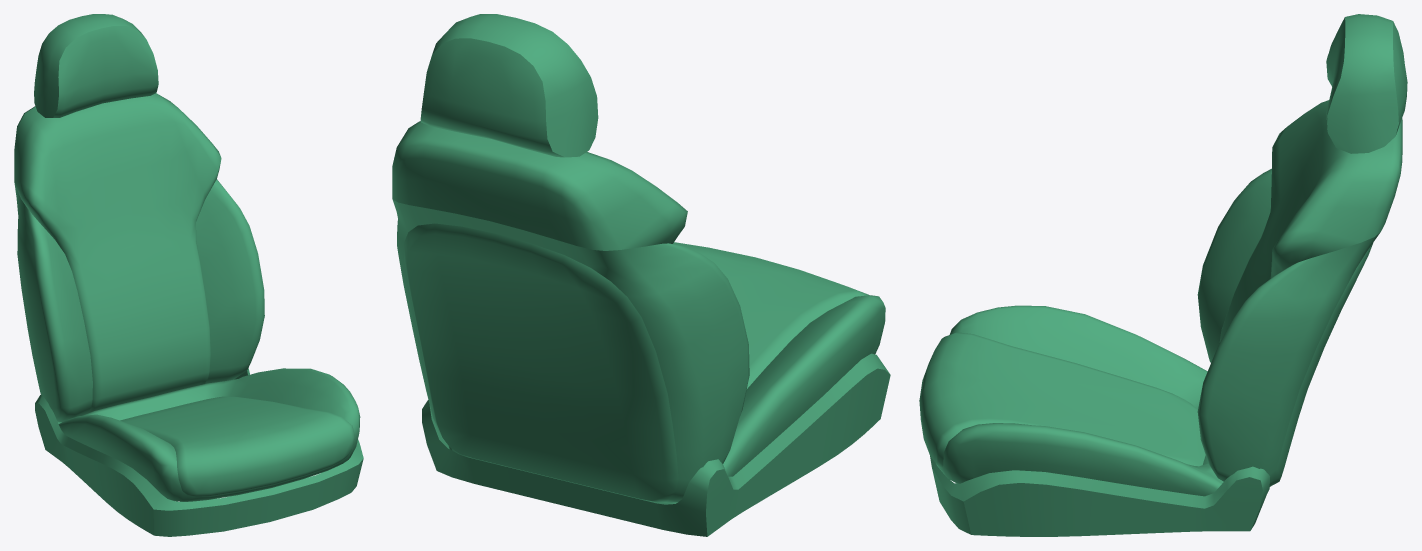
File: CarlaVR_vehicles_Seat.fbx
3 renders of one model, left to right at view 1: azimuth 30°, elevation 25°; view 2: azimuth 150°, elevation 25°; view 3: azimuth 270°, elevation 25°, orthographic. The views are drawn at different scales.
Visible parts, largest first — view 1: vivace_seat_FL; view 2: vivace_seat_FL; view 3: vivace_seat_FL.
Part boxes in pixels (left/top/right/bottom): vivace_seat_FL: left=14, top=14, right=363, bottom=536; vivace_seat_FL: left=392, top=14, right=890, bottom=536; vivace_seat_FL: left=919, top=14, right=1407, bottom=536.
Bounding box in the file's own units: 5343 × 8489 × 8344.
